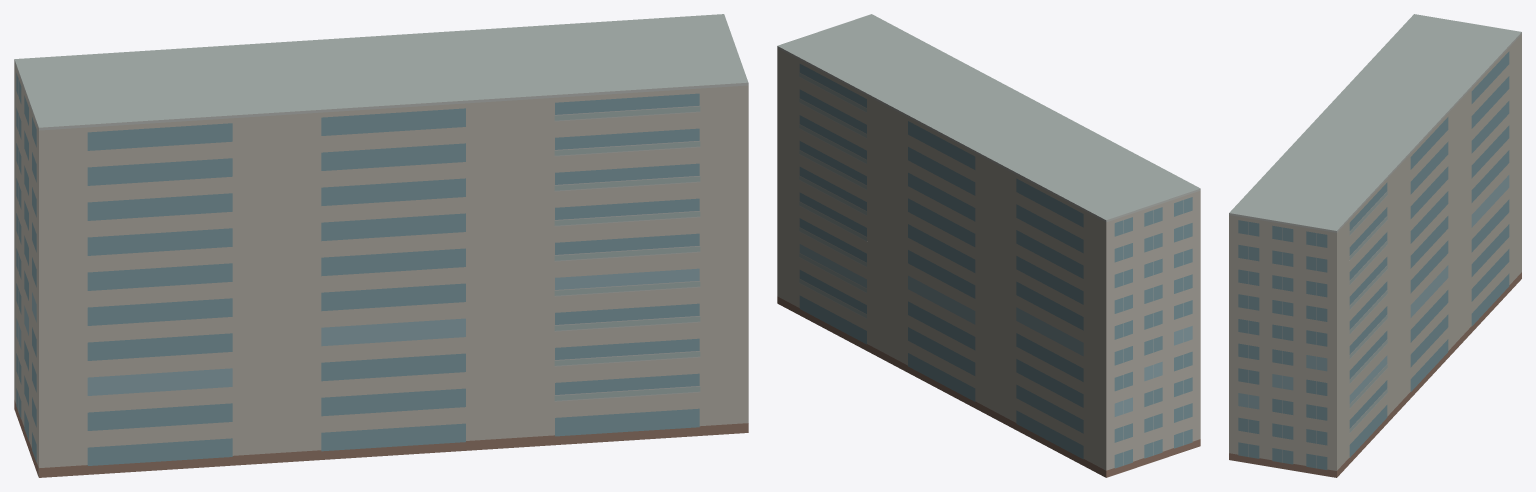
Rendered from residential-c3203822-a4da-469e-9306-5c743a78e701.glb.
3 views of the same model, side by side, from view 1: azimuth 30°, elevation 25°; view 2: azimuth 150°, elevation 25°; view 3: azimuth 270°, elevation 25° (orthographic). The views are drawn at different scales.
Visible parts, largest first — view 1: residential-c3203822-a4da-469e-9306-5c743a78e701.tmp; view 2: residential-c3203822-a4da-469e-9306-5c743a78e701.tmp; view 3: residential-c3203822-a4da-469e-9306-5c743a78e701.tmp.
Boxes of the visible parts, bbox=[...] form: residential-c3203822-a4da-469e-9306-5c743a78e701.tmp: bbox=[14, 14, 748, 477]; residential-c3203822-a4da-469e-9306-5c743a78e701.tmp: bbox=[777, 14, 1200, 477]; residential-c3203822-a4da-469e-9306-5c743a78e701.tmp: bbox=[1229, 14, 1521, 477].
Size of the model in its own units: 57.48 by 30.5 by 32.79.
